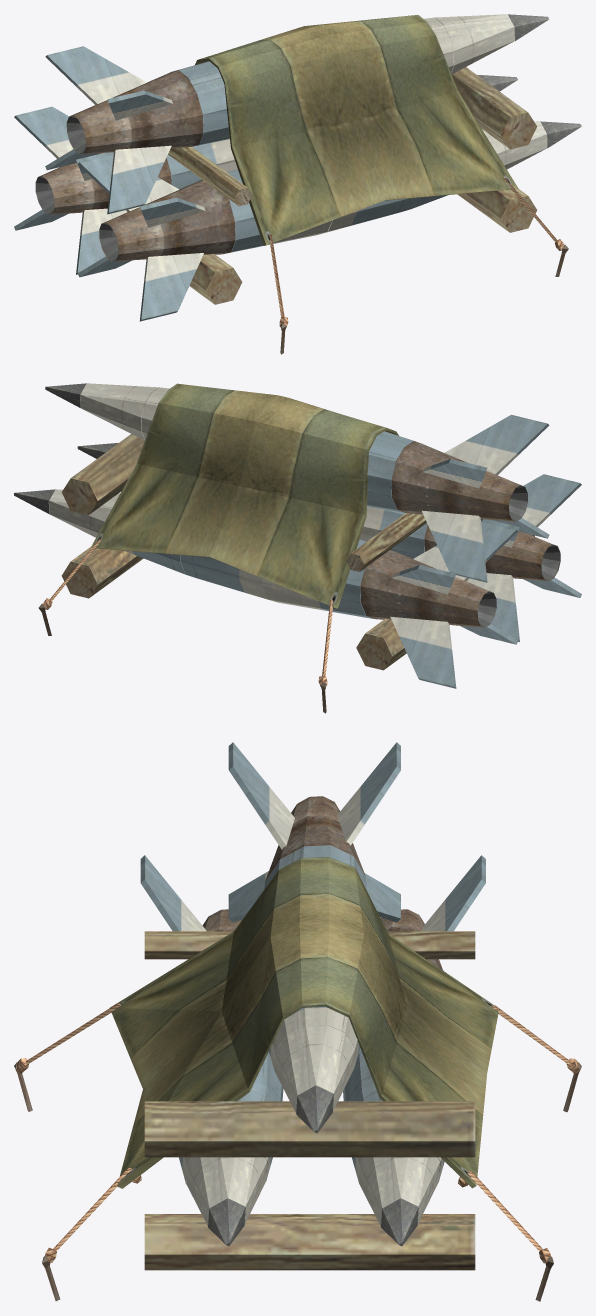
Rendered from C3SMROCKETS1H.obj.
3 views of the same model, one above another, from view 1: azimuth 30°, elevation 25°; view 2: azimuth 150°, elevation 25°; view 3: azimuth 270°, elevation 25° (orthographic). The views are drawn at different scales.
Parts seen in each view (by area): view 1: Node 6, Node 11, Node 17, Node 0, Node 4, Node 23, Node 13, Node 15, Node 19, Node 32, Node 16, Node 5 (+15 smaller); view 2: Node 6, Node 11, Node 23, Node 0, Node 1, Node 4, Node 24, Node 12, Node 14, Node 32, Node 17, Node 16 (+15 smaller); view 3: Node 6, Node 0, Node 4, Node 32, Node 5, Node 34, Node 29, Node 11, Node 12, Node 13, Node 18, Node 27 (+10 smaller).
Part boxes in pixels (bbox=[...]): Node 6: bbox=[188, 15, 557, 316]; Node 11: bbox=[66, 70, 203, 154]; Node 17: bbox=[99, 179, 235, 261]; Node 0: bbox=[189, 188, 568, 354]; Node 4: bbox=[451, 67, 537, 149]; Node 23: bbox=[35, 153, 171, 214]; Node 13: bbox=[45, 46, 146, 104]; Node 15: bbox=[107, 145, 171, 214]; Node 19: bbox=[139, 253, 203, 321]; Node 32: bbox=[435, 14, 514, 74]; Node 16: bbox=[170, 61, 229, 145]; Node 5: bbox=[168, 147, 252, 206]; Node 6: bbox=[49, 383, 398, 675]; Node 11: bbox=[391, 441, 527, 521]; Node 23: bbox=[360, 549, 496, 627]; Node 0: bbox=[38, 534, 534, 713]; Node 1: bbox=[180, 539, 374, 619]; Node 4: bbox=[61, 434, 144, 515]; Node 24: bbox=[390, 616, 456, 688]; Node 12: bbox=[444, 414, 549, 475]; Node 14: bbox=[422, 510, 487, 582]; Node 32: bbox=[80, 383, 159, 440]; Node 17: bbox=[424, 519, 560, 580]; Node 16: bbox=[367, 431, 413, 512]; Node 6: bbox=[25, 857, 570, 1251]; Node 0: bbox=[14, 1062, 581, 1301]; Node 4: bbox=[144, 1101, 475, 1157]; Node 32: bbox=[274, 1025, 355, 1113]; Node 5: bbox=[144, 931, 475, 959]; Node 34: bbox=[186, 1157, 266, 1225]; Node 29: bbox=[359, 1157, 439, 1226]; Node 11: bbox=[265, 796, 365, 882]; Node 12: bbox=[228, 742, 294, 853]; Node 13: bbox=[315, 742, 400, 845]; Node 18: bbox=[140, 855, 206, 931]; Node 27: bbox=[422, 855, 485, 931].
Size of the model in its own units: 18.82 by 8.52 by 14.44.
41 materials, 41 textured.
